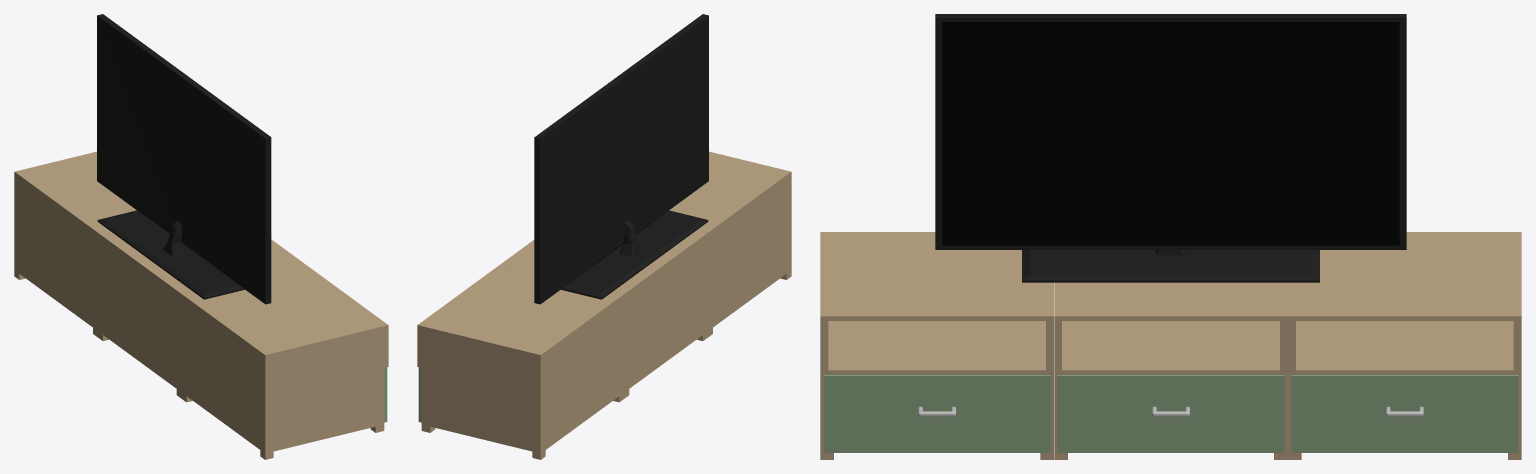
The model's file is TV_and_stand.fbx.
3 views of the same model, side by side, from view 1: azimuth 30°, elevation 25°; view 2: azimuth 150°, elevation 25°; view 3: azimuth 270°, elevation 25° (orthographic). The views are drawn at different scales.
Visible parts, largest first — view 1: TV, Kaappi.002, Kaappi.001, Kaappi; view 2: TV, Kaappi.001, Kaappi.002, Kaappi; view 3: TV_screen, Kaappi.001, Kaappi.002, Kaappi, TV, Liuku_Laatikko.001, Liuku_Laatikko.002, Liuku_Laatikko.
Part boxes in pixels (left/top/right/bottom): TV: left=97, top=14, right=271, bottom=304; Kaappi.002: left=181, top=264, right=388, bottom=459; Kaappi.001: left=14, top=151, right=136, bottom=337; Kaappi: left=98, top=230, right=304, bottom=398; TV: left=534, top=14, right=708, bottom=304; Kaappi.001: left=417, top=264, right=624, bottom=459; Kaappi.002: left=669, top=151, right=791, bottom=337; Kaappi: left=501, top=230, right=707, bottom=398; TV_screen: left=942, top=22, right=1399, bottom=245; Kaappi.001: left=1288, top=232, right=1521, bottom=459; Kaappi.002: left=820, top=232, right=1053, bottom=459; Kaappi: left=1054, top=282, right=1287, bottom=459; TV: left=935, top=14, right=1406, bottom=282; Liuku_Laatikko.001: left=1291, top=375, right=1518, bottom=452; Liuku_Laatikko.002: left=823, top=375, right=1050, bottom=452; Liuku_Laatikko: left=1057, top=375, right=1284, bottom=452.
Bounding box in the file's own units: 91.05 × 185 × 299.
